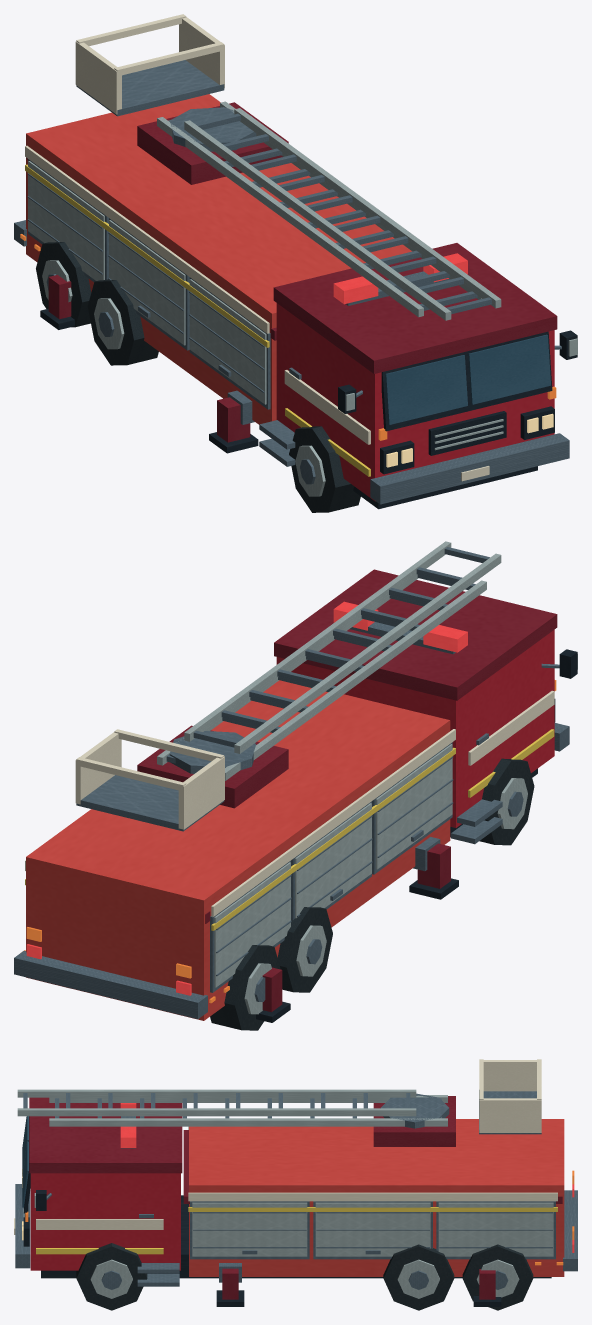
File: engine-ladder-lod.glb
3 renders of one model, top to bottom at view 1: azimuth 30°, elevation 25°; view 2: azimuth 150°, elevation 25°; view 3: azimuth 270°, elevation 25°, orthographic. The views are drawn at different scales.
Visible parts, largest first — view 1: engine-ladder-lod; view 2: engine-ladder-lod; view 3: engine-ladder-lod.
Part boxes in pixels (box(x1,y1,x2,y2)): engine-ladder-lod: box(14, 14, 577, 512); engine-ladder-lod: box(14, 541, 577, 1030); engine-ladder-lod: box(14, 1059, 577, 1310).
Size of the model in its own units: 3.11 by 3.26 by 8.56.
Materials: 4 (4 with a texture image).
